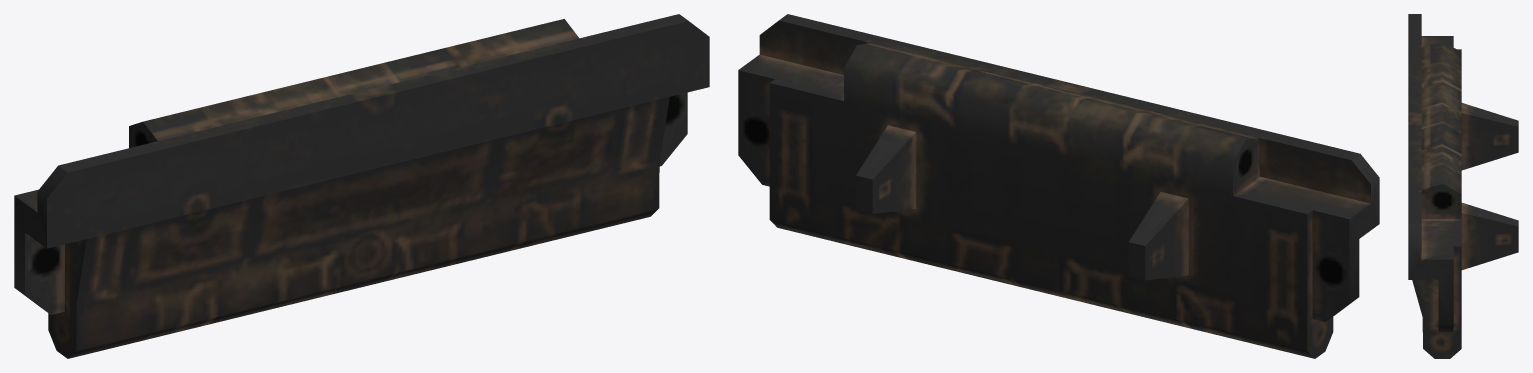
3 renders of one model, left to right at view 1: azimuth 30°, elevation 25°; view 2: azimuth 150°, elevation 25°; view 3: azimuth 270°, elevation 25°, orthographic. The views are drawn at different scales.
Visible parts, largest first — view 1: set_0_group_0; view 2: set_0_group_0; view 3: set_0_group_0.
Part boxes in pixels (<box>): set_0_group_0: <box>14,14,709,358</box>; set_0_group_0: <box>738,14,1379,358</box>; set_0_group_0: <box>1408,14,1518,358</box>.
Bounding box in the file's own units: 0.65 × 0.2002 × 0.1355.
Materials: 1 (1 with a texture image).
